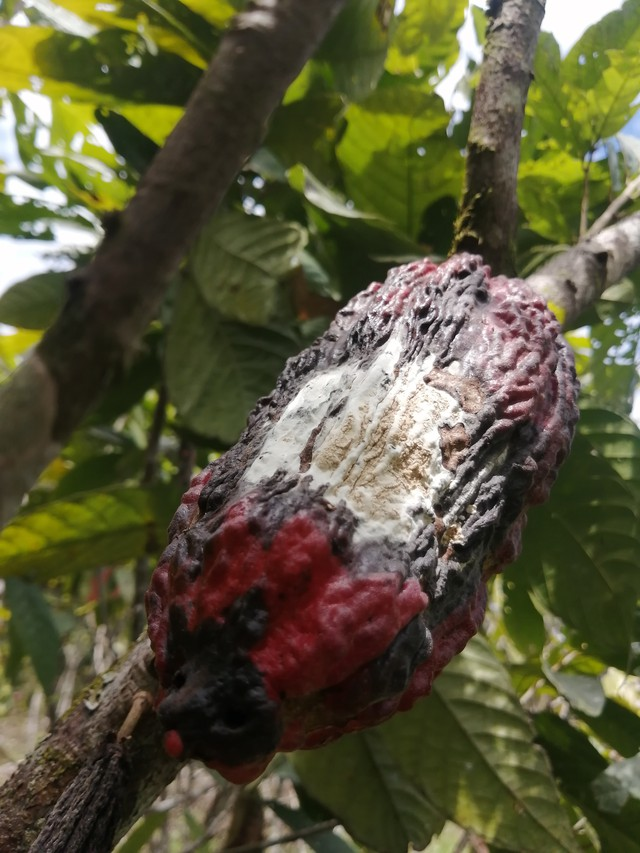moniliophthora roreri: (127, 249, 593, 794)
